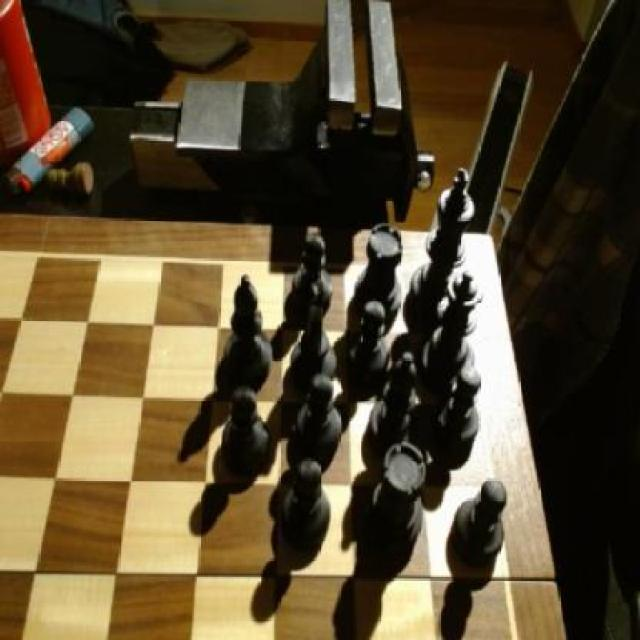bishop: (220, 275, 276, 387), (369, 352, 422, 457)
black-bishop: (411, 168, 480, 326)
black-king: (289, 277, 337, 390)
black-knight: (452, 477, 507, 575), (282, 458, 332, 547), (434, 370, 484, 456), (224, 388, 276, 470), (296, 378, 344, 464), (348, 302, 392, 390), (294, 235, 334, 317)
black-pawn: (421, 271, 484, 397)
black-queen: (368, 442, 426, 552), (358, 223, 404, 321)
